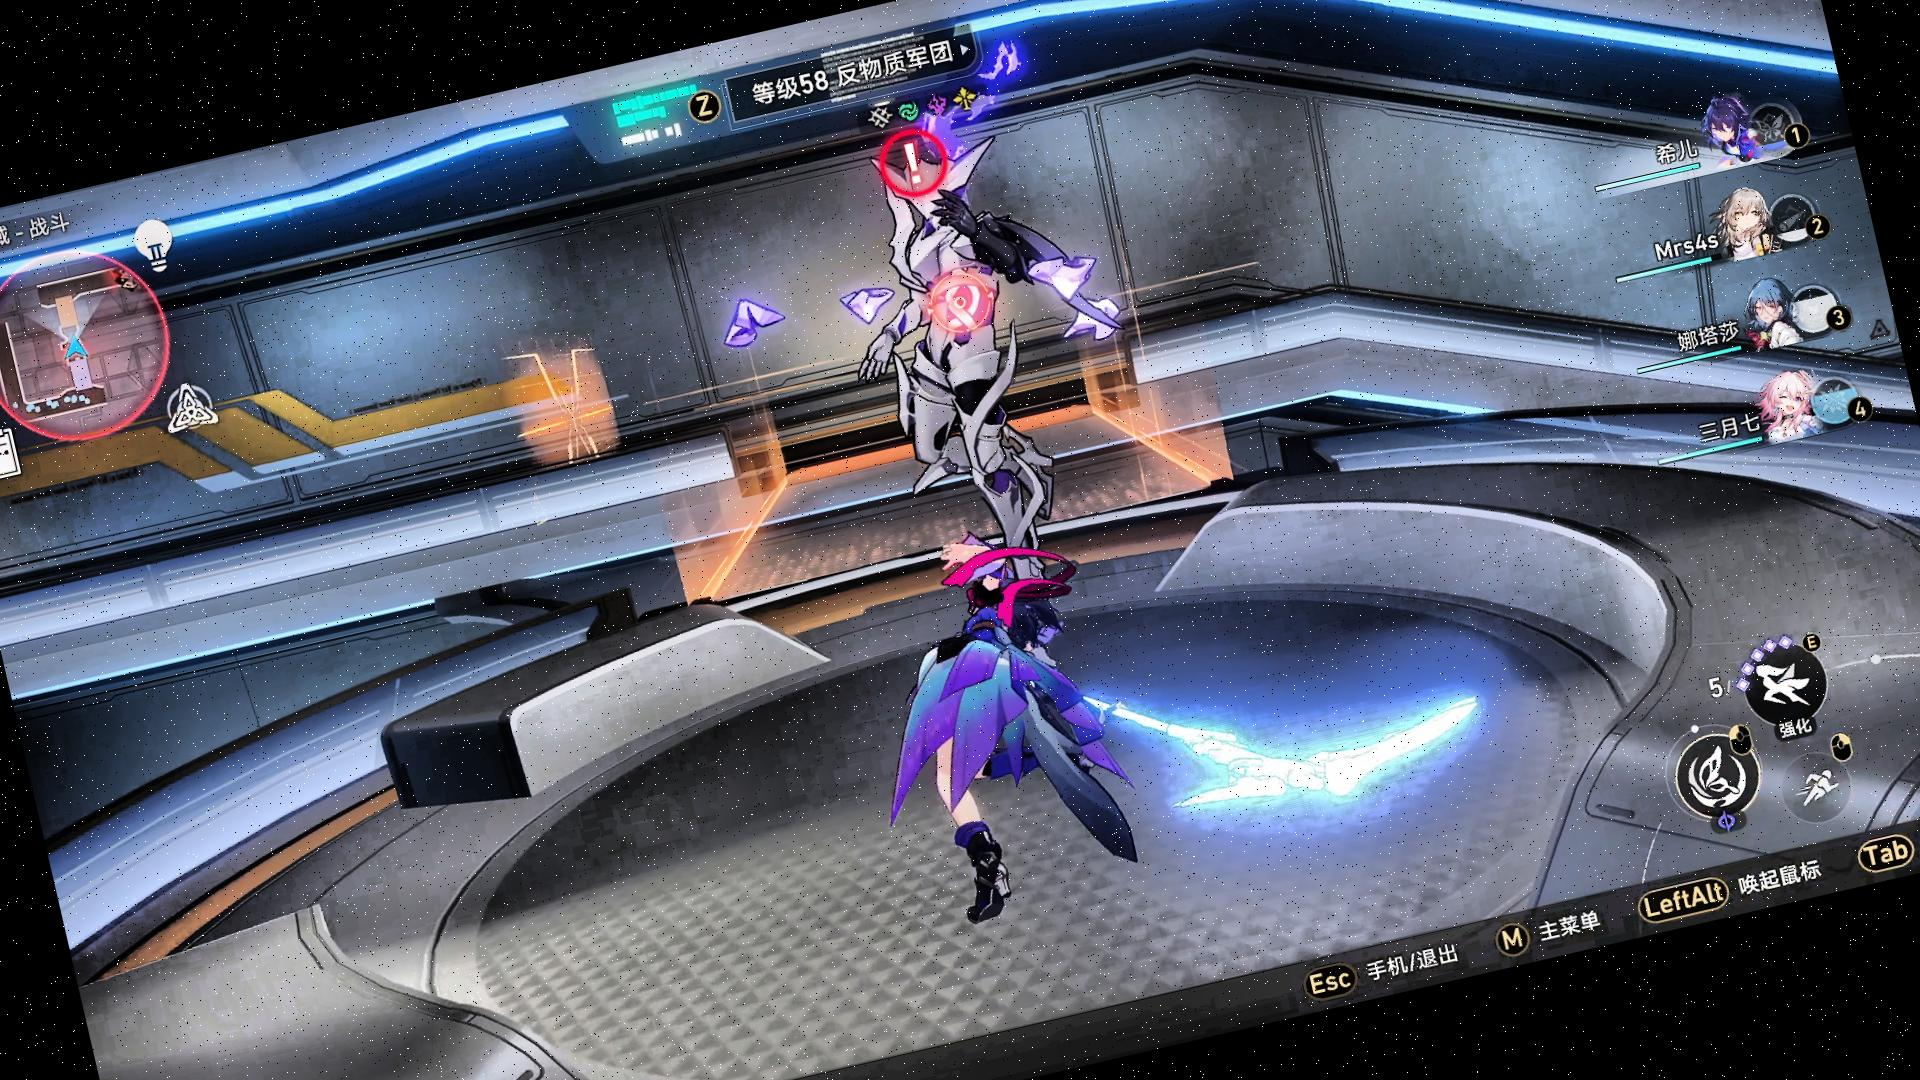Enemy: (814, 107, 1182, 646)
Self: (845, 502, 1179, 951)
